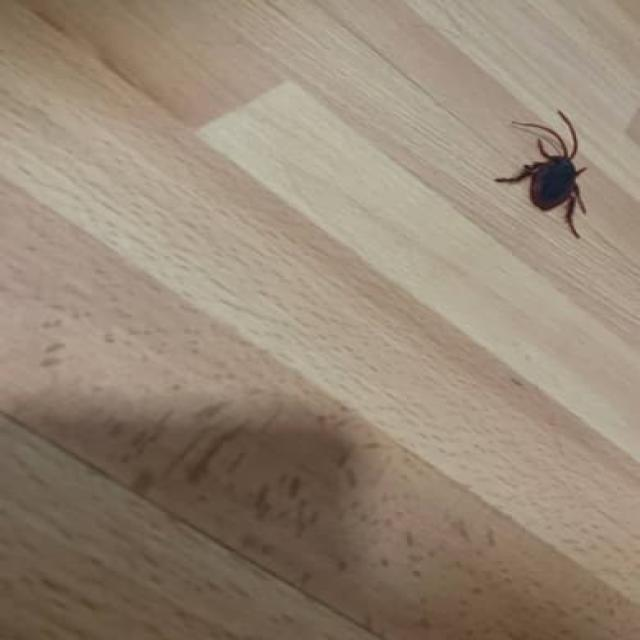Cockroach: (500, 102, 599, 239)
